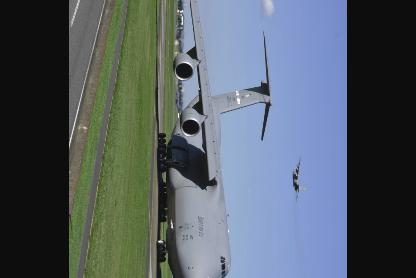Be200: (292, 156, 310, 202)
C17: (156, 0, 274, 277)
C2: (176, 91, 184, 112)
